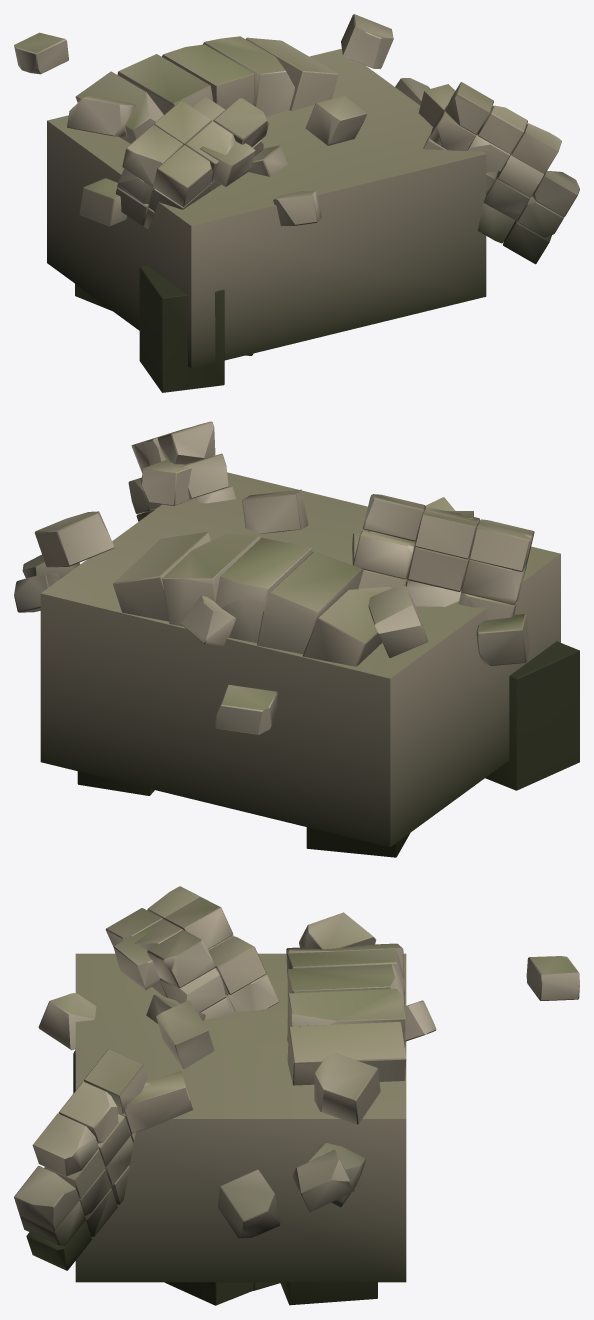
Rendered from harbour_gate_fallen.glb.
3 renders of one model, top to bottom at view 1: azimuth 30°, elevation 25°; view 2: azimuth 150°, elevation 25°; view 3: azimuth 270°, elevation 25°, orthographic. The views are drawn at different scales.
Parts seen in each view (by area): view 1: harbour_gate_fallen_far, harbour_gate_fallen; view 2: harbour_gate_fallen_far, harbour_gate_fallen; view 3: harbour_gate_fallen, harbour_gate_fallen_far.
Part boxes in pixels (box(x1,y1,x2,y2)): harbour_gate_fallen_far: box(47, 48, 486, 368); harbour_gate_fallen: box(14, 14, 579, 392); harbour_gate_fallen_far: box(40, 472, 560, 847); harbour_gate_fallen: box(14, 421, 579, 857); harbour_gate_fallen: box(14, 886, 579, 1305); harbour_gate_fallen_far: box(75, 953, 406, 1282).
Size of the model in its own units: 37.15 by 19.61 by 37.65.
